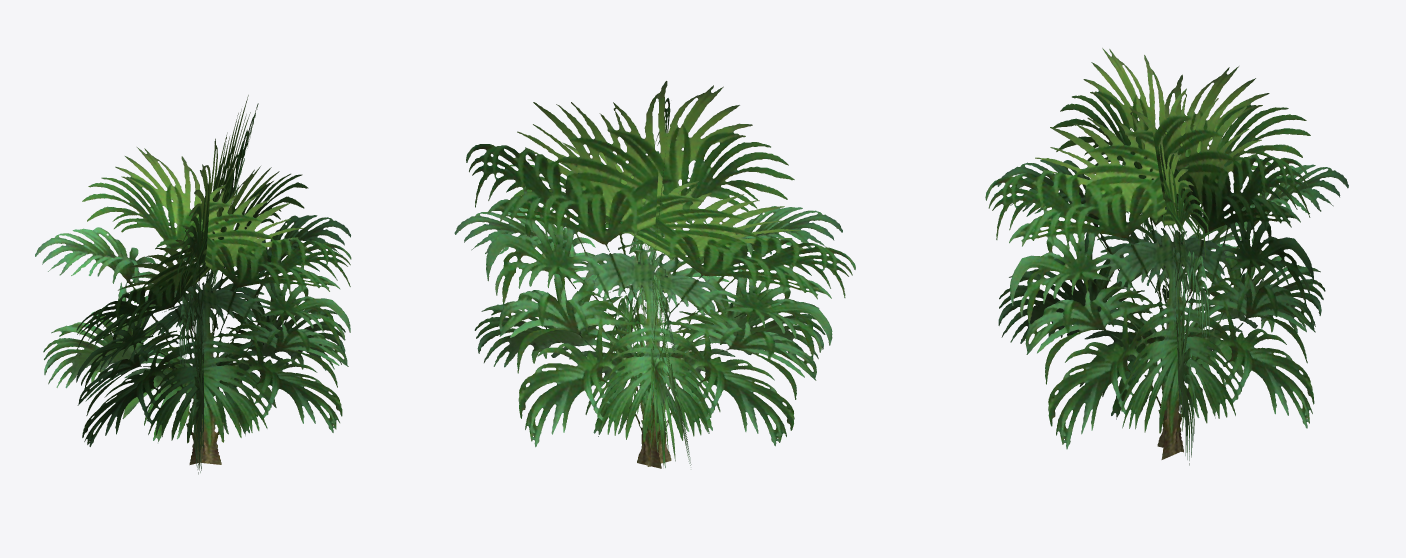
File: obj__palms4.obj
The picture shows the model from 3 angles, left to right: view 1: azimuth 30°, elevation 25°; view 2: azimuth 150°, elevation 25°; view 3: azimuth 270°, elevation 25°; orthographic projection. The views are drawn at different scales.
Parts seen in each view (by area): view 1: palms4.tga; view 2: palms4.tga; view 3: palms4.tga.
Boxes of the visible parts, left/top/right/bottom form: palms4.tga: left=35, top=95, right=351, bottom=474; palms4.tga: left=454, top=81, right=855, bottom=468; palms4.tga: left=985, top=48, right=1348, bottom=465.
Bounding box in the file's own units: 95.02 × 88.34 × 83.77.
Materials: 1 (1 with a texture image).
